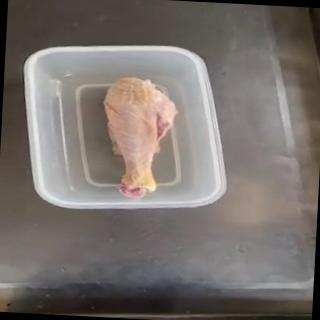Ayam: (98, 76, 182, 201)
